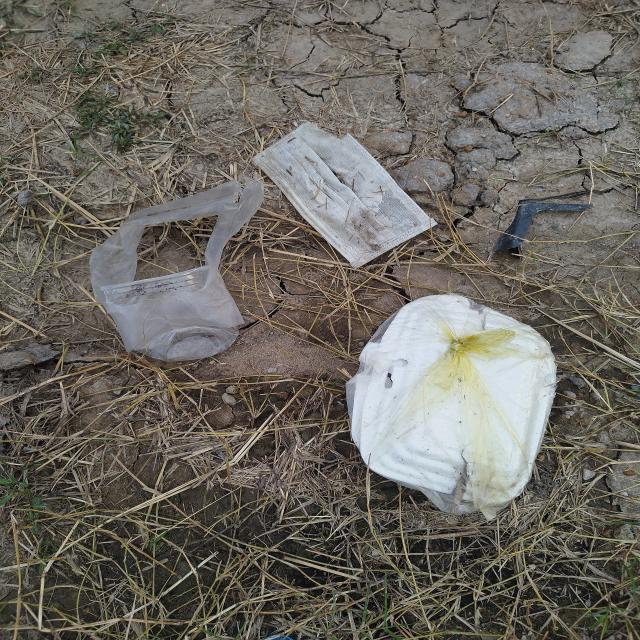bag: (88, 181, 266, 361)
mask: (253, 122, 437, 268)
trash bag: (348, 294, 555, 517)
